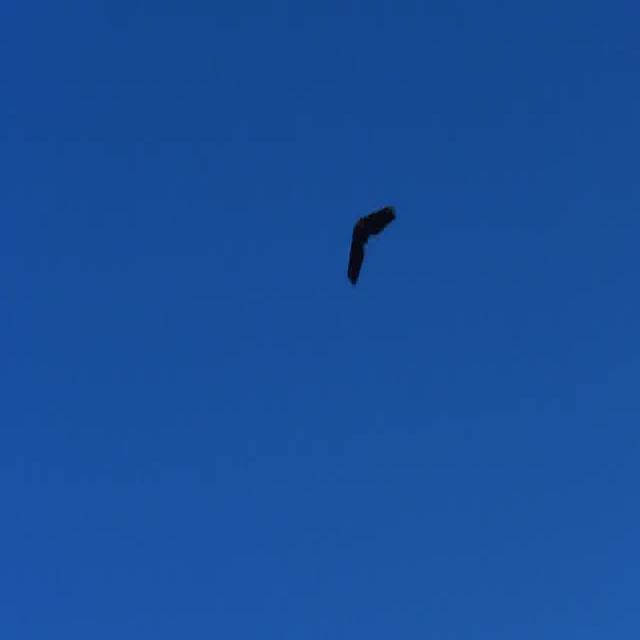iha: (344, 229, 401, 267)
